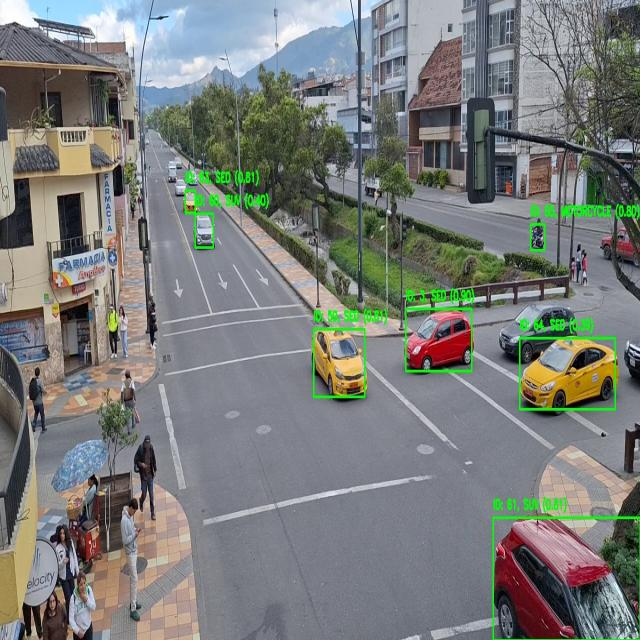MOTORCYCLE: (530, 220, 546, 253)
SED: (520, 340, 619, 409), (499, 302, 576, 364), (405, 311, 472, 370), (314, 329, 366, 396)
SUV: (494, 520, 639, 638)
